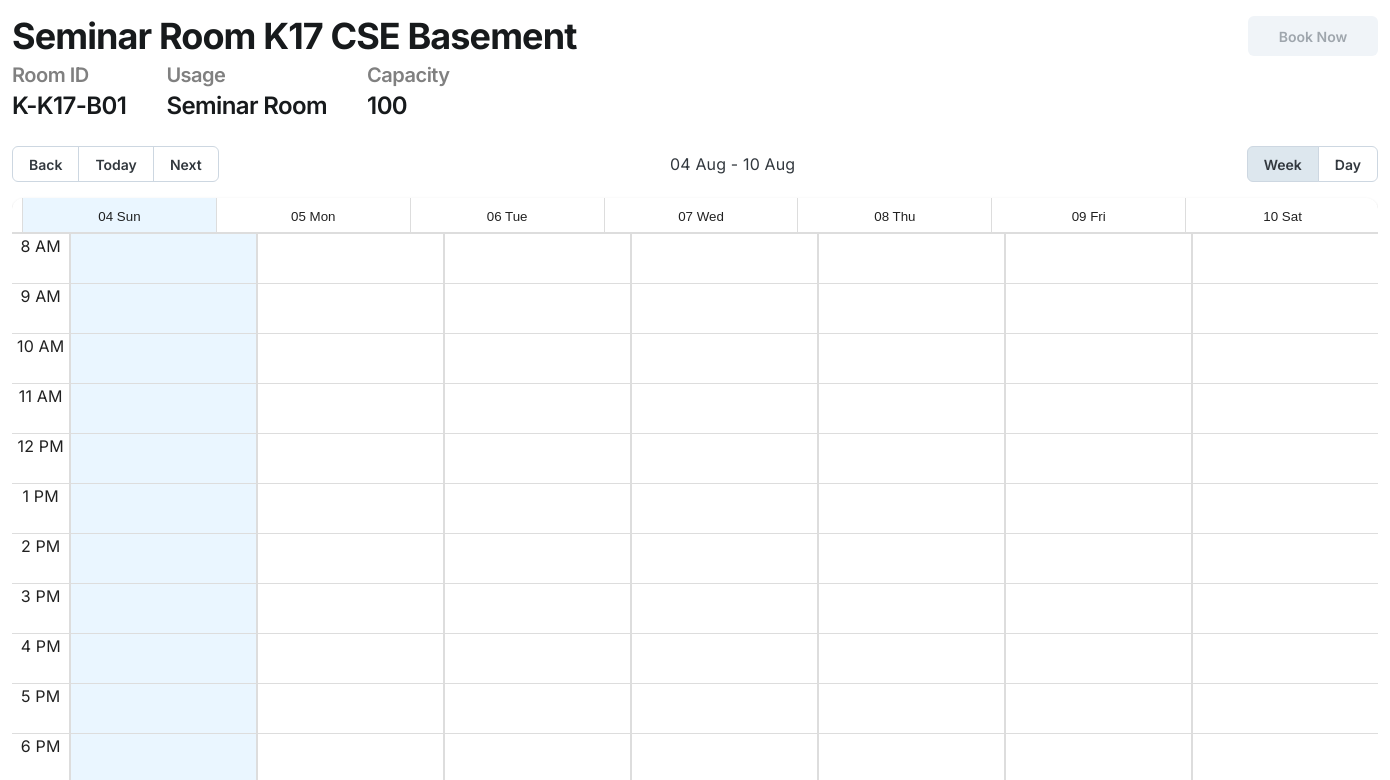
Test case: AvailabilitiesPage › disables book button and displays tool tip when room cannot be booked
(page scrolled)
Hover over the button "Book Now" at [1313, 36], box left=1248, top=16, right=1378, bottom=56
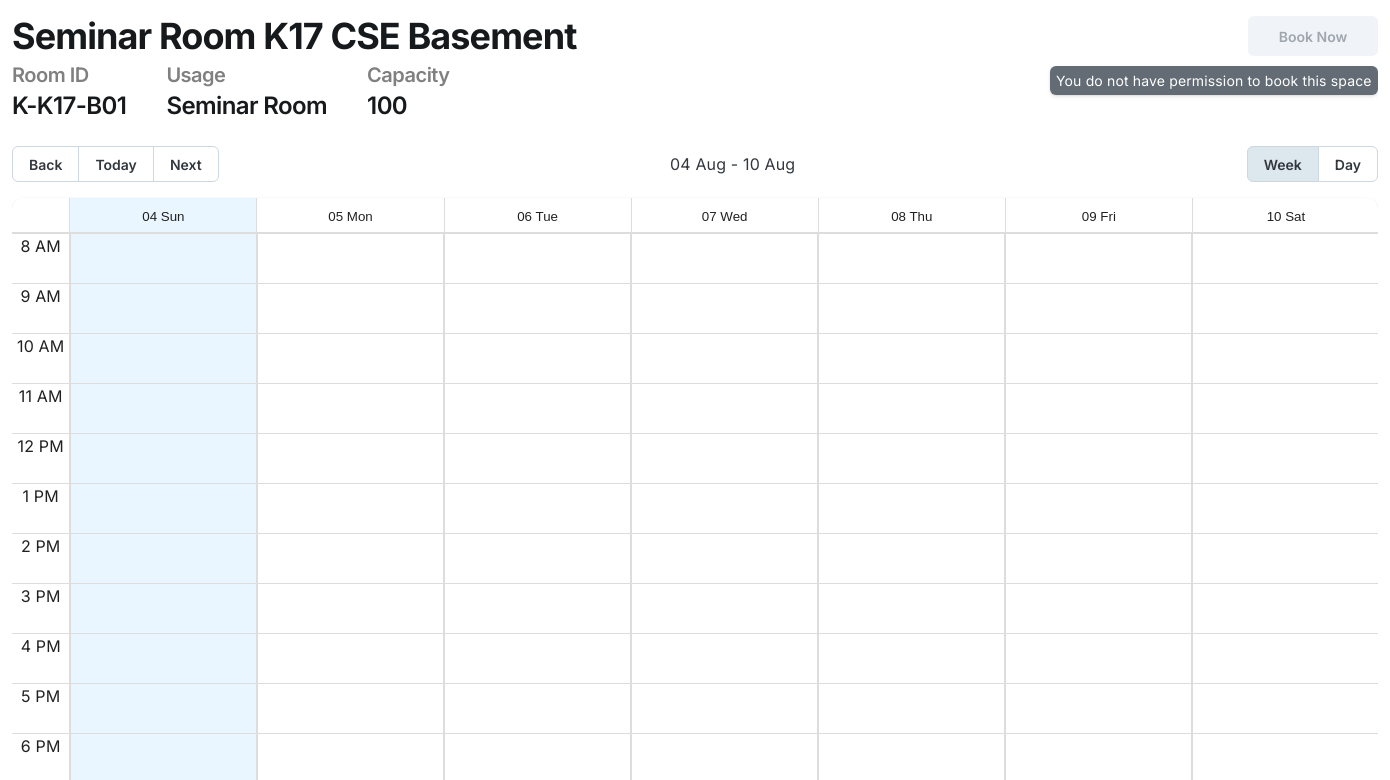
Expected: the tooltip "You do not have permission to book this space" is shown, left=1050, top=66, right=1378, bottom=95
